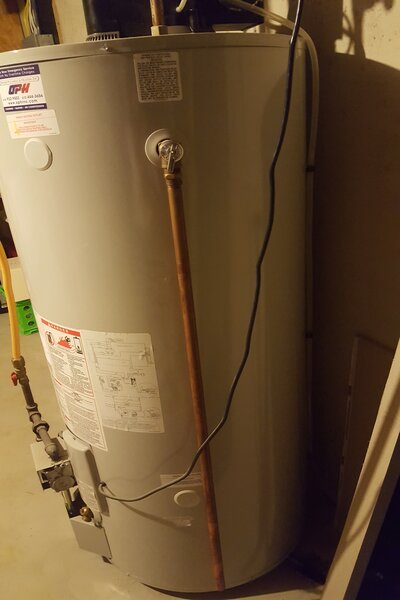valve: (152, 134, 187, 181)
